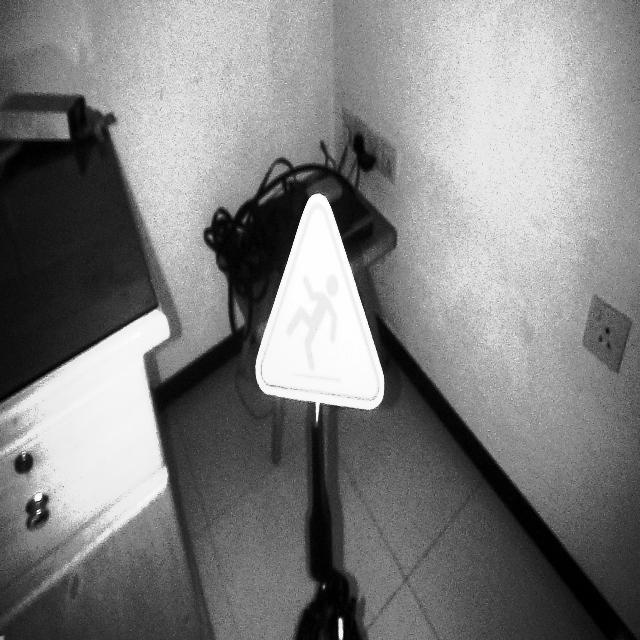Sign: (254, 191, 386, 413)
